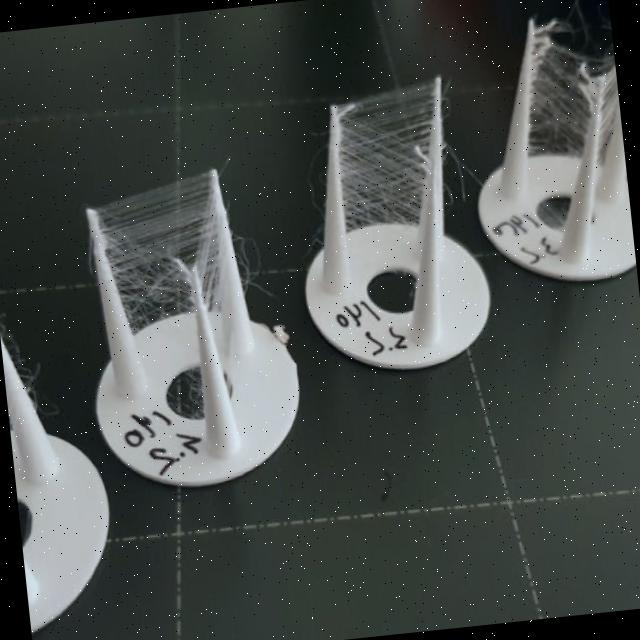stringing: (93, 175, 224, 336), (341, 80, 435, 232), (529, 21, 619, 166), (183, 368, 203, 414)
